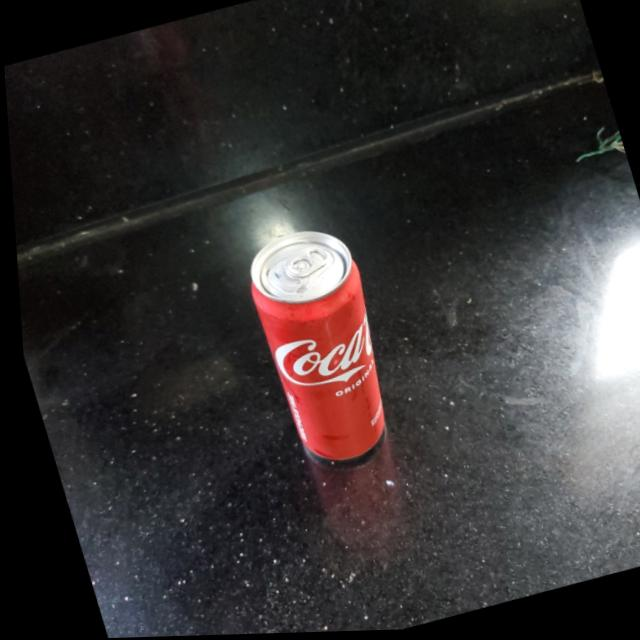coke: (235, 220, 406, 468)
